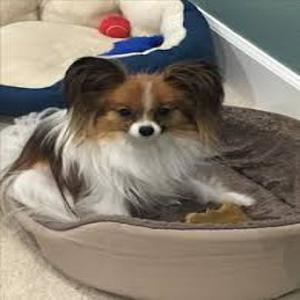yell: (0, 57, 255, 218)
